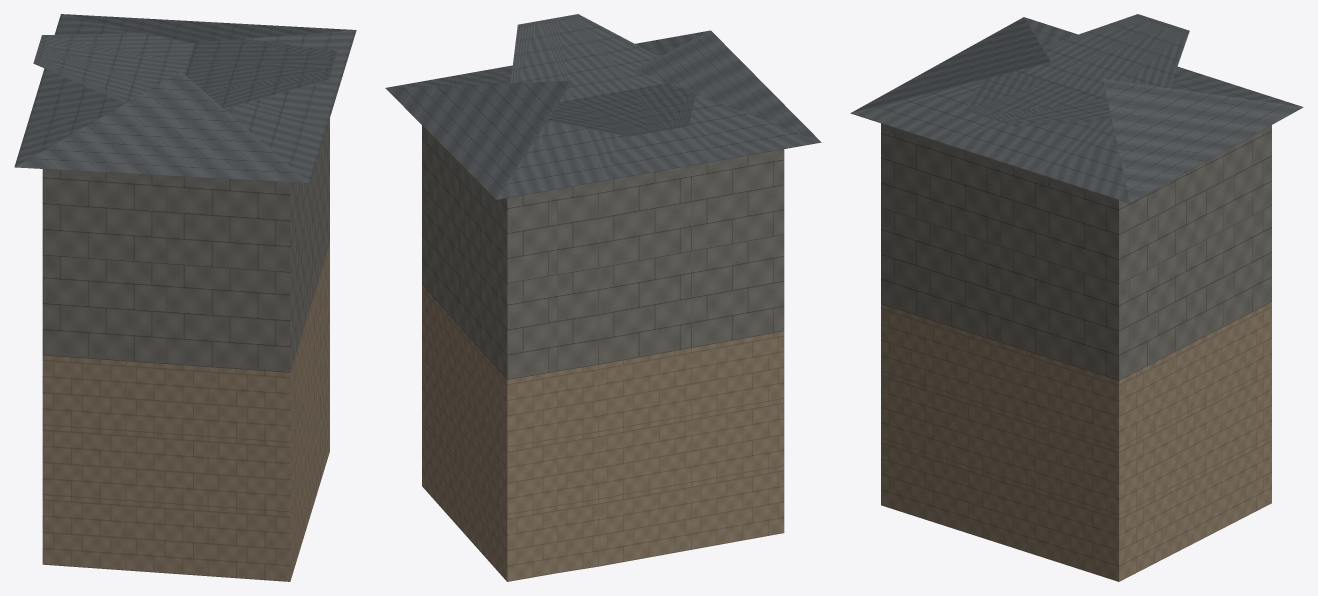
File: bld_c-8_36_387.gltf
3 views of the same model, side by side, from view 1: azimuth 30°, elevation 25°; view 2: azimuth 150°, elevation 25°; view 3: azimuth 270°, elevation 25° (orthographic). The views are drawn at different scales.
Parts seen in each view (by area): view 1: bld_c-8_36_387; view 2: bld_c-8_36_387; view 3: bld_c-8_36_387.
Boxes of the visible parts, x1=… form: bld_c-8_36_387: x1=14, y1=14, x2=356, y2=581; bld_c-8_36_387: x1=385, y1=14, x2=821, y2=581; bld_c-8_36_387: x1=850, y1=14, x2=1303, y2=581.
Size of the model in its own units: 10.06 by 10.9 by 10.34.
3 materials, 3 textured.
